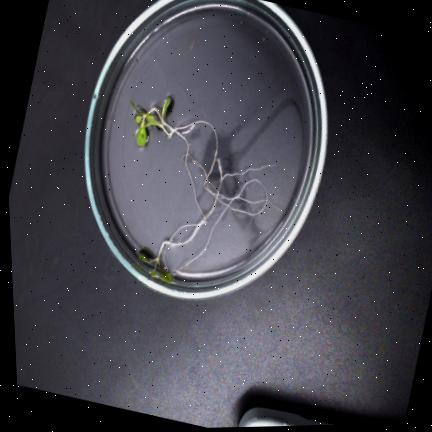leaf1: (136, 251, 151, 262)
leaf2: (150, 267, 155, 275)
leaf3: (158, 267, 172, 281)
leaf4: (135, 119, 146, 146)
leaf5: (134, 114, 140, 123)
leaf6: (129, 99, 144, 114)
leaf7: (160, 96, 169, 121)
leaf8: (145, 113, 160, 124)
leaf9: (140, 121, 151, 128)
root1: (168, 157, 273, 244)
root2: (159, 115, 283, 276)
root3: (171, 119, 216, 178), (202, 178, 266, 214), (180, 152, 206, 178), (205, 179, 222, 197)
stem1: (150, 239, 168, 267)
stem2: (140, 105, 159, 120)
stem3: (157, 120, 172, 136)
